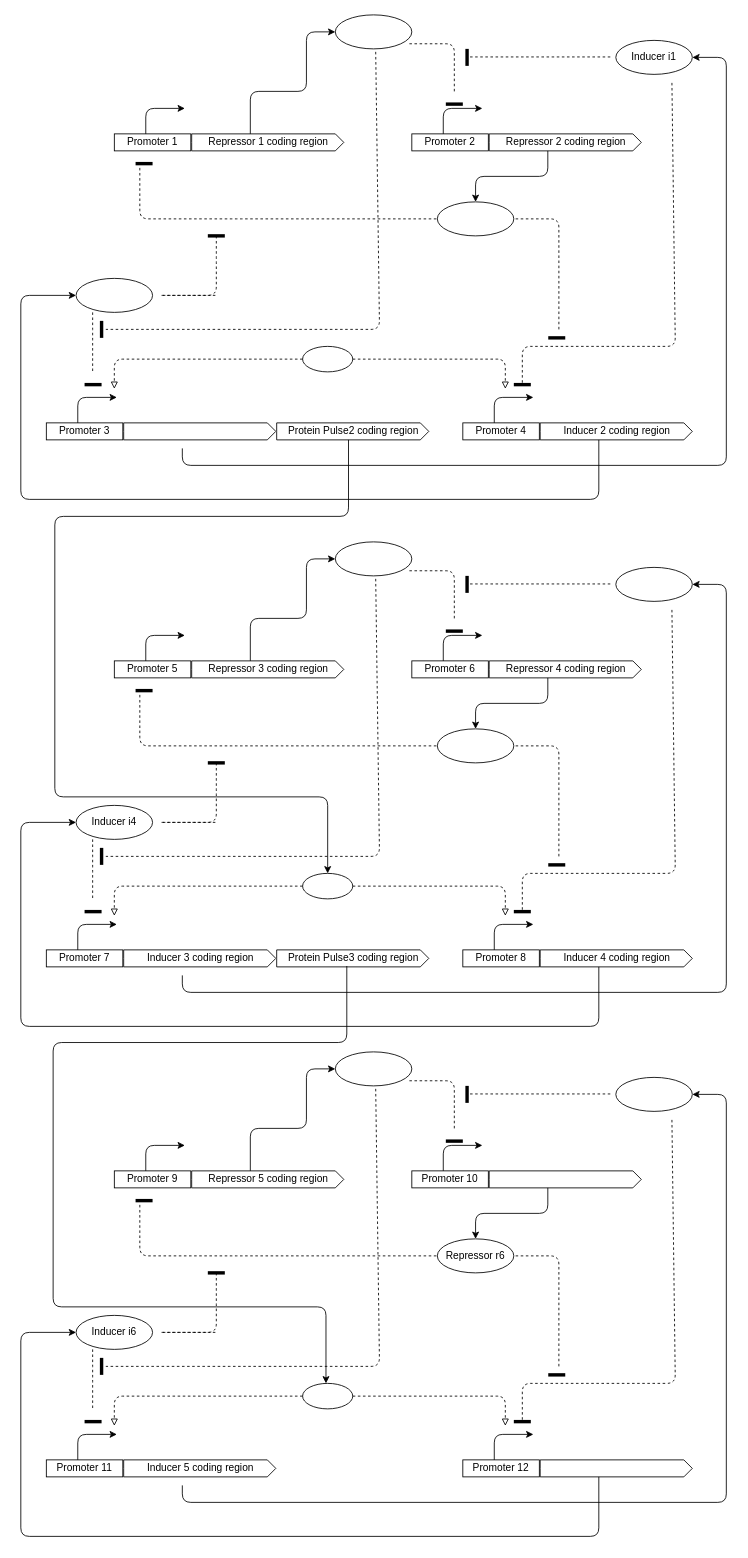
Some shapes in this 748 by 1558 pixel diagram are drawn without their labels. Each missing label, with the centre of its shape:
"Inducer 1 coding region" goes at pixel 199 431.
"Inducer 6 coding region" goes at pixel 615 1468.
"Inducer i2" goes at pixel 114 295.
"Inducer i3" goes at pixel 653 584.
"Inducer i5" goes at pixel 653 1094.
"Pulse" goes at pixel 327 359.
"Pulse2" goes at pixel 327 886.
"Pulse3" goes at pixel 327 1396.
"Repressor 6 coding region" goes at pixel 564 1179.
"Repressor r1" goes at pixel 373 31.
"Repressor r2" goes at pixel 475 218.
"Repressor r3" goes at pixel 373 558.
"Repressor r4" goes at pixel 475 745.
"Repressor r5" goes at pixel 373 1068.
